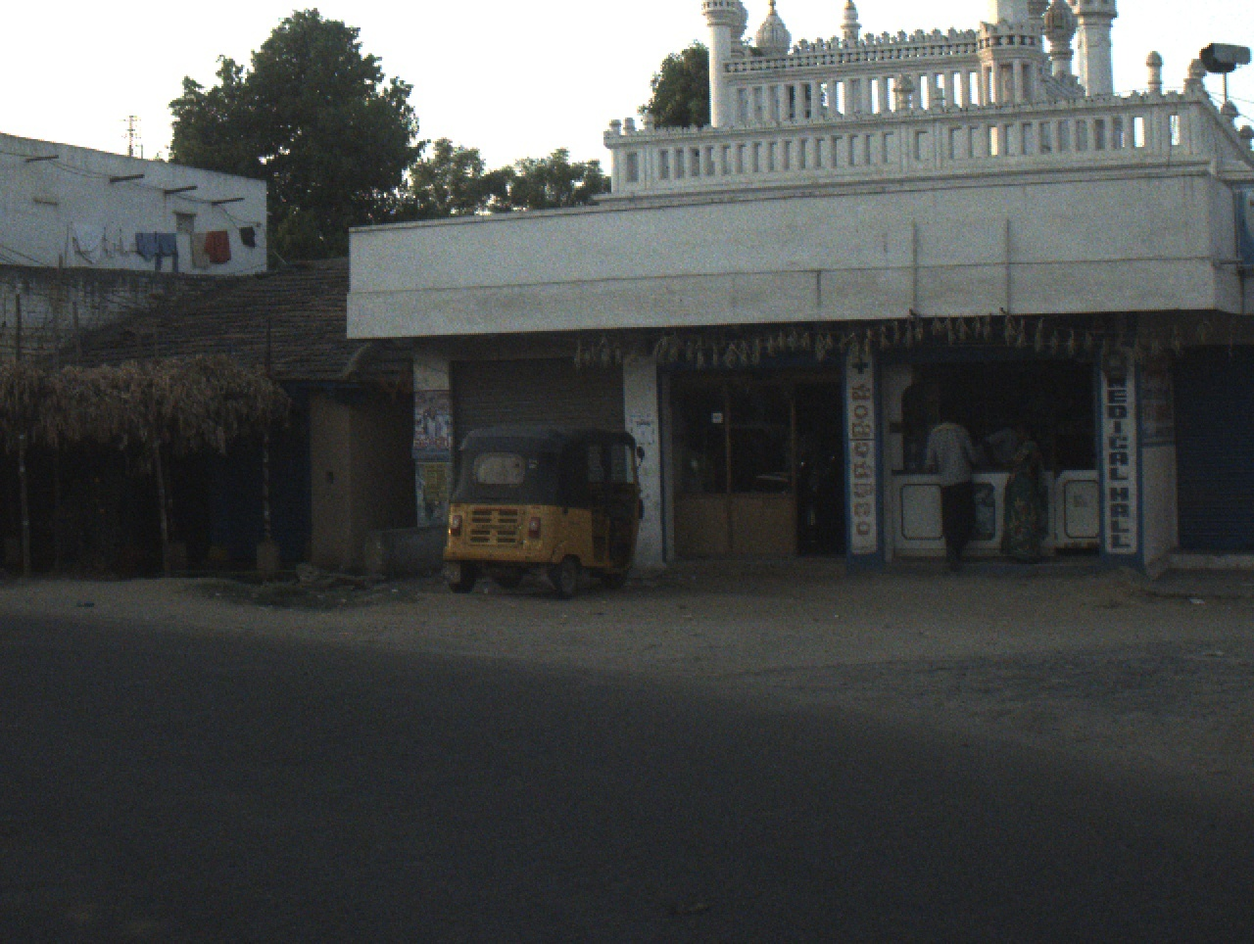autorickshaw: (440, 418, 650, 606)
person: (918, 399, 981, 576), (988, 416, 1057, 565)
